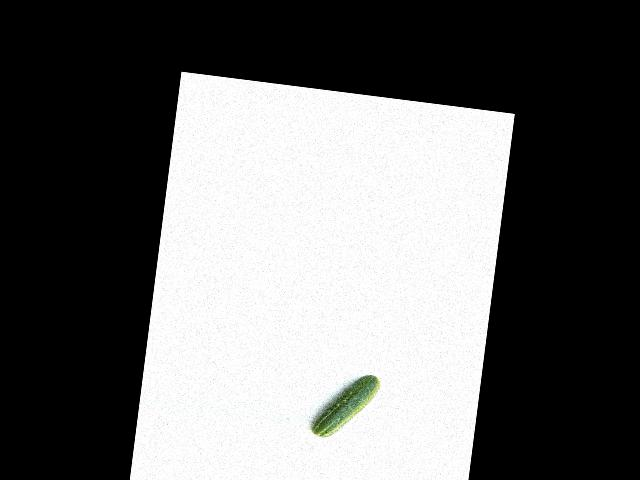cucumber: (310, 368, 381, 444)
